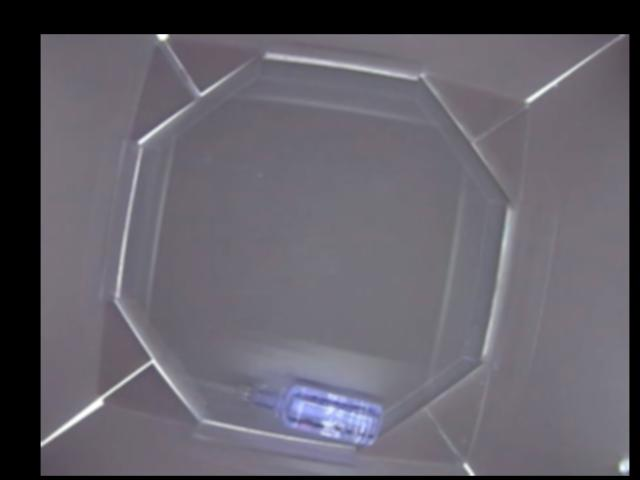Bottle: (234, 373, 385, 445)
